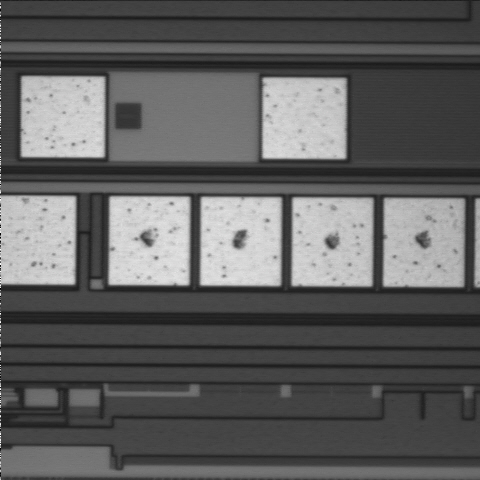pad: (109, 197, 190, 285), (201, 197, 281, 285), (292, 198, 372, 286), (384, 199, 463, 286), (22, 77, 104, 157), (263, 78, 345, 158)
